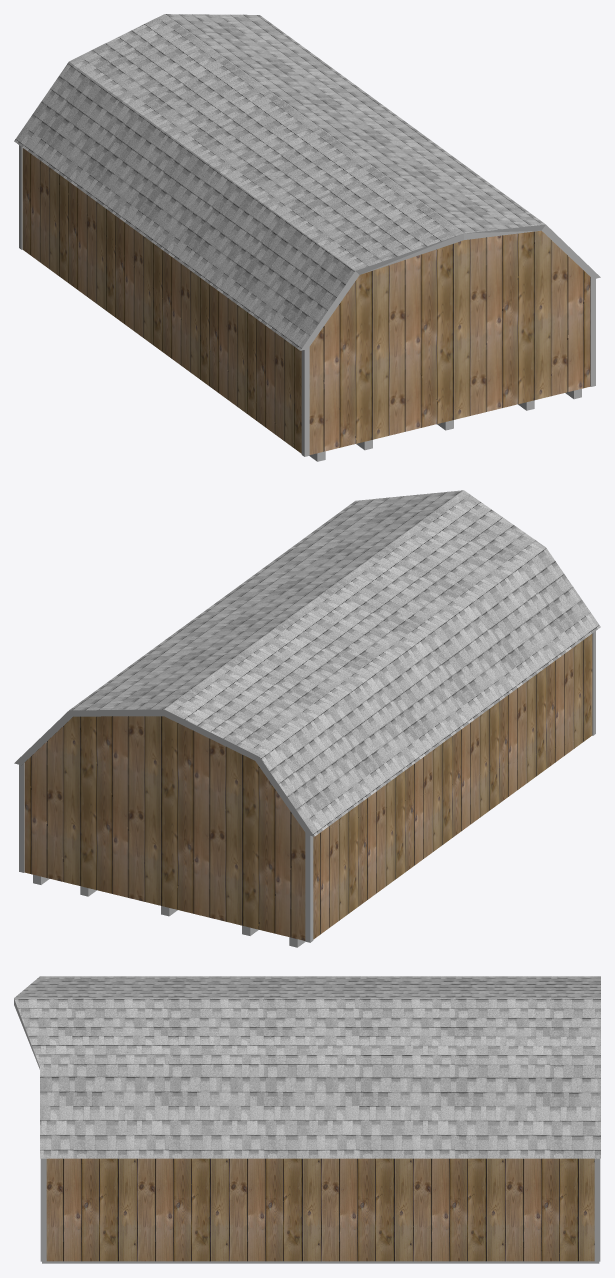
The model's file is Mini Barn Sheds_12x20.obj.
3 views of the same model, one above another, from view 1: azimuth 30°, elevation 25°; view 2: azimuth 150°, elevation 25°; view 3: azimuth 270°, elevation 25° (orthographic). The views are drawn at different scales.
Visible parts, largest first — view 1: Roof, Shed, Sides, Trim, Floor; view 2: Roof, Shed, Sides, Trim, Floor; view 3: Roof, Shed, Floor, Trim.
Part boxes in pixels (x1,y1,x2,y2): Roof: (14,14,545,350); Shed: (22,148,590,454); Sides: (300,224,600,350); Trim: (19,145,595,456); Floor: (309,389,581,461); Roof: (69,490,600,836); Shed: (24,634,592,940); Sides: (14,709,314,836); Trim: (19,631,595,942); Floor: (33,874,305,947); Roof: (14,976,600,1158); Shed: (46,1158,594,1261); Floor: (42,1261,599,1263); Trim: (40,1158,600,1261).
Size of the model in its own units: 3.72 by 2.44 by 6.42.
